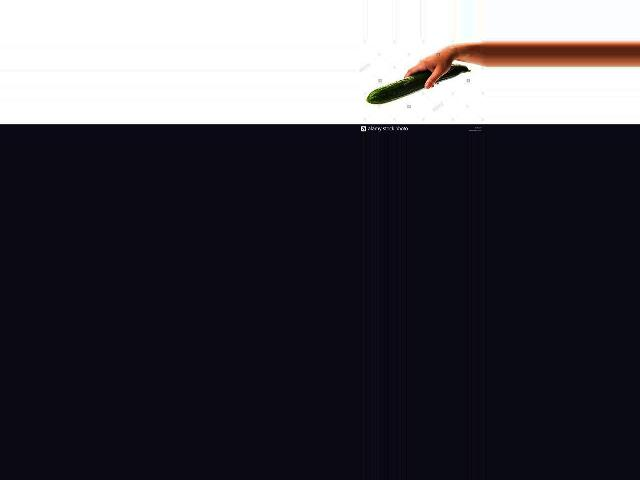cucumber: (366, 64, 471, 104)
